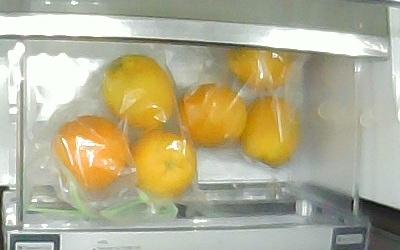orange_vinyl: (102, 55, 177, 130), (52, 116, 128, 189), (130, 130, 196, 197), (179, 84, 248, 147), (241, 97, 298, 167), (228, 48, 290, 91)
